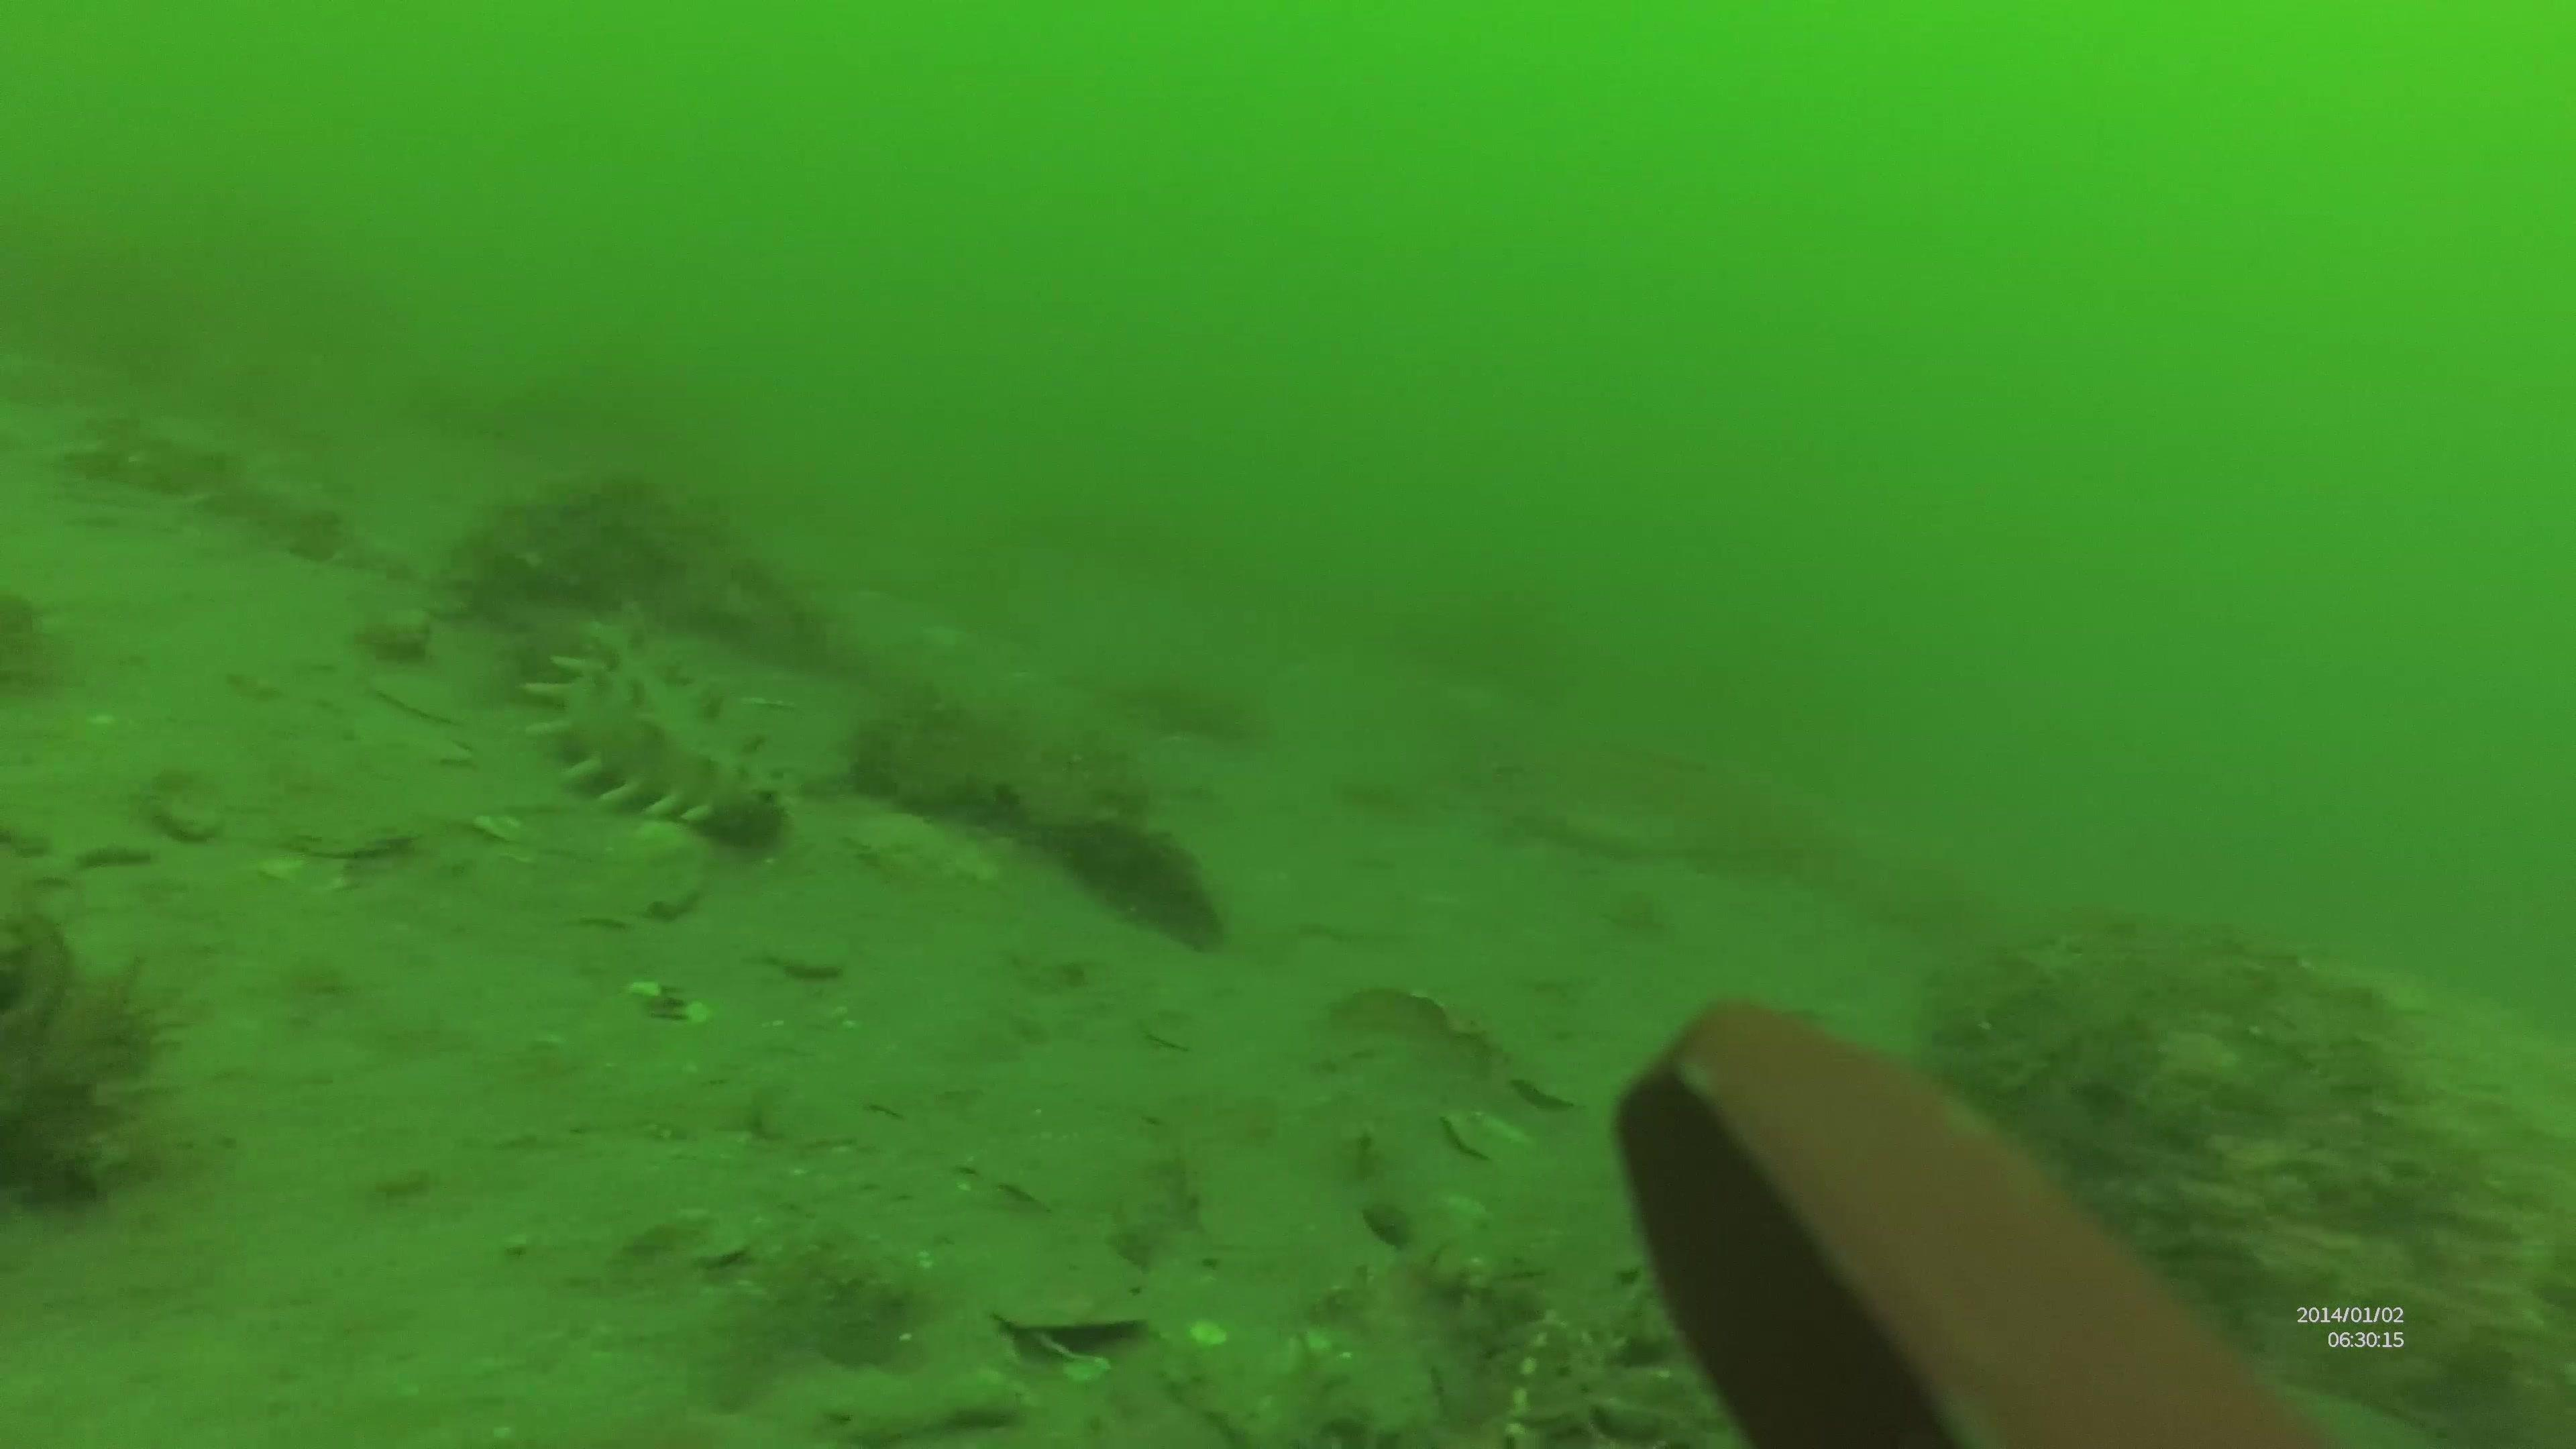holothurian: (520, 610, 798, 842)
